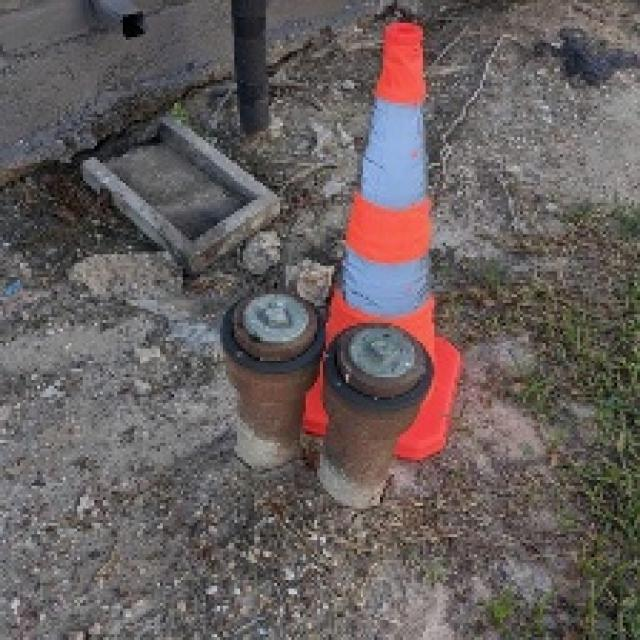cone: (300, 20, 466, 464)
